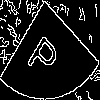P: (25, 25, 66, 83)
